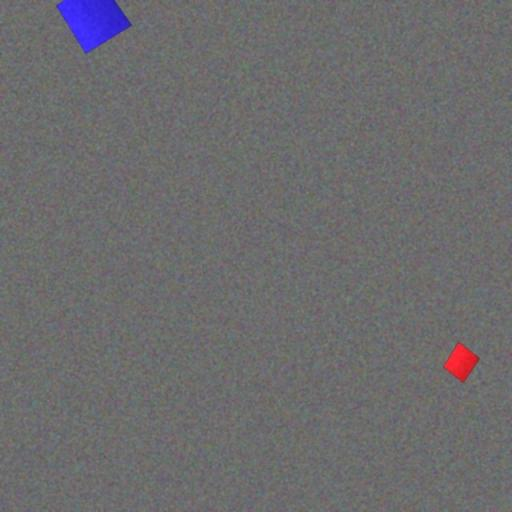BLUE_SQUARE: (55, 0, 132, 54)
RED_SQUARE: (442, 342, 481, 384)
